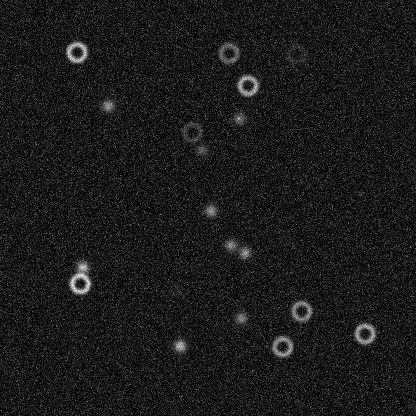Ring: (270, 334, 294, 358), (289, 298, 313, 322), (284, 41, 308, 65), (235, 73, 259, 97), (179, 120, 203, 144), (216, 41, 240, 65), (352, 321, 376, 345), (67, 271, 91, 295), (64, 40, 88, 64)
Spot: (236, 244, 252, 260), (222, 236, 238, 252), (99, 97, 115, 113), (170, 281, 186, 297), (202, 202, 218, 218), (74, 259, 90, 275), (171, 337, 187, 353), (231, 110, 247, 126), (232, 310, 248, 326), (193, 141, 209, 157)
